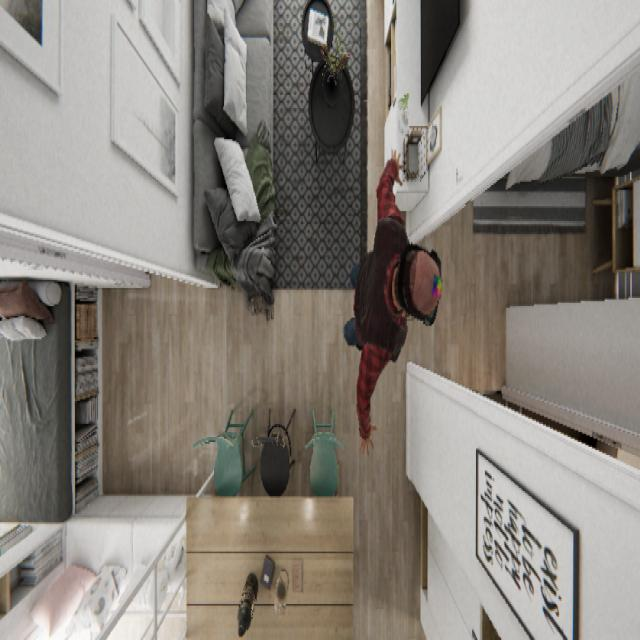Colored-Marker: (431, 270, 443, 301)
Human: (342, 147, 443, 455)
